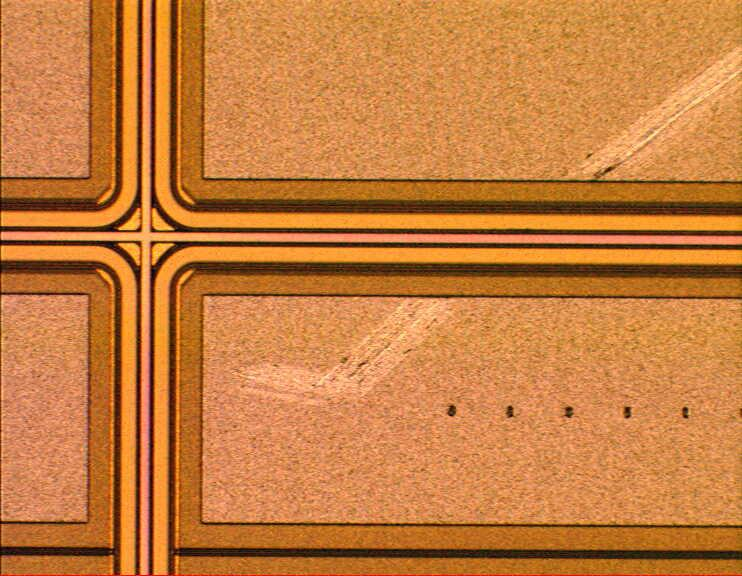SCRATCH: (218, 31, 742, 423)
